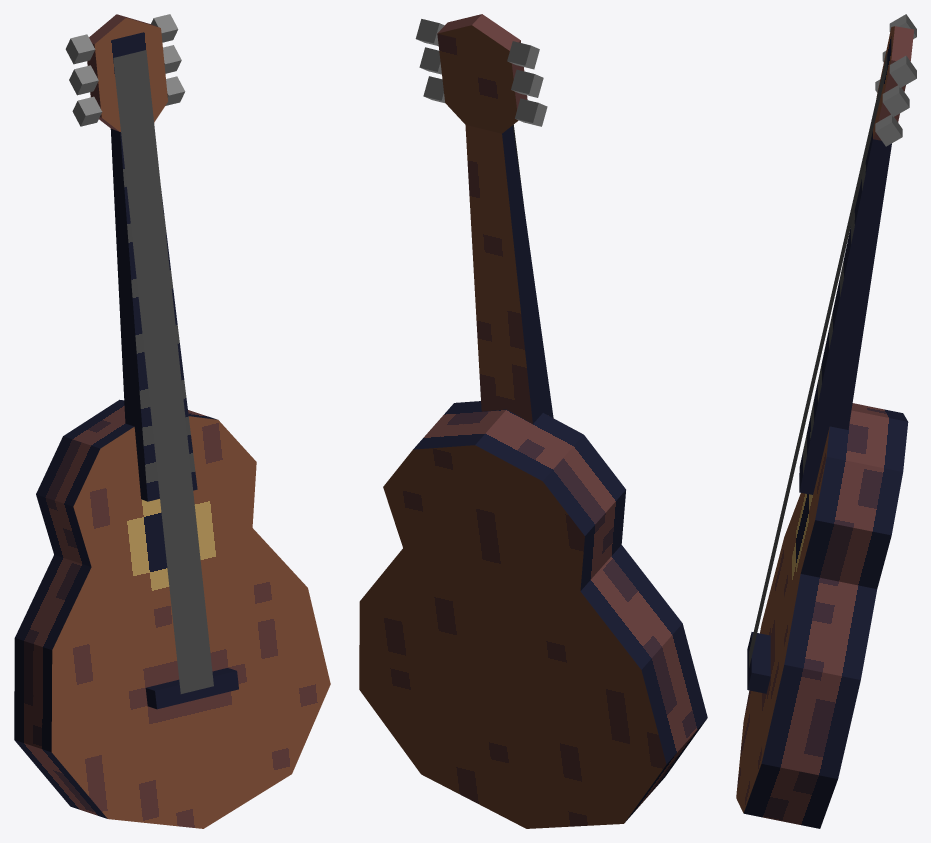
Rendered from SM_Guitar.fbx.
3 renders of one model, left to right at view 1: azimuth 30°, elevation 25°; view 2: azimuth 150°, elevation 25°; view 3: azimuth 270°, elevation 25°, orthographic. The views are drawn at different scales.
Parts seen in each view (by area): view 1: Guitar.001; view 2: Guitar.001; view 3: Guitar.001.
Part boxes in pixels (left/top/right/bottom): Guitar.001: left=14, top=14, right=330, bottom=828; Guitar.001: left=359, top=14, right=707, bottom=828; Guitar.001: left=736, top=14, right=916, bottom=828.
Bounding box in the file's own units: 52.54 × 138 × 28.79.
